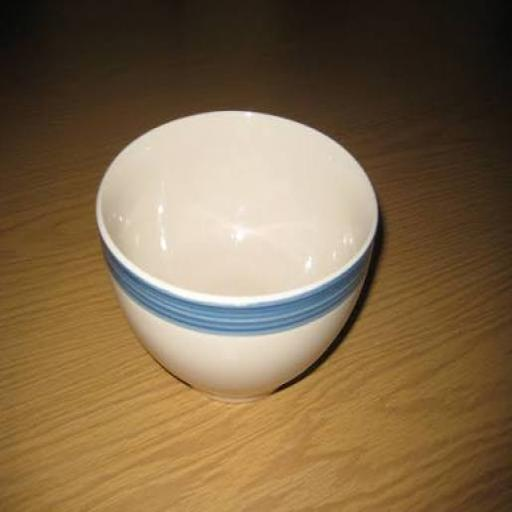Bowl: (95, 112, 382, 400)
